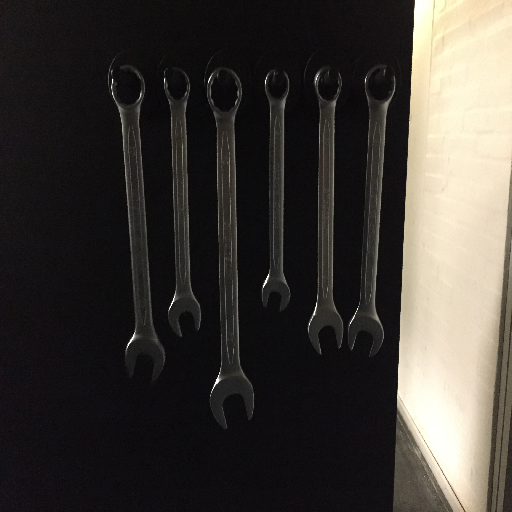bottom: (207, 372, 260, 431), (122, 338, 168, 382), (344, 314, 386, 361), (306, 308, 346, 357), (165, 296, 205, 337), (260, 277, 293, 311)
top: (204, 64, 244, 115), (107, 64, 148, 112), (311, 63, 348, 104), (362, 63, 397, 104), (160, 65, 195, 104), (260, 67, 292, 104)
